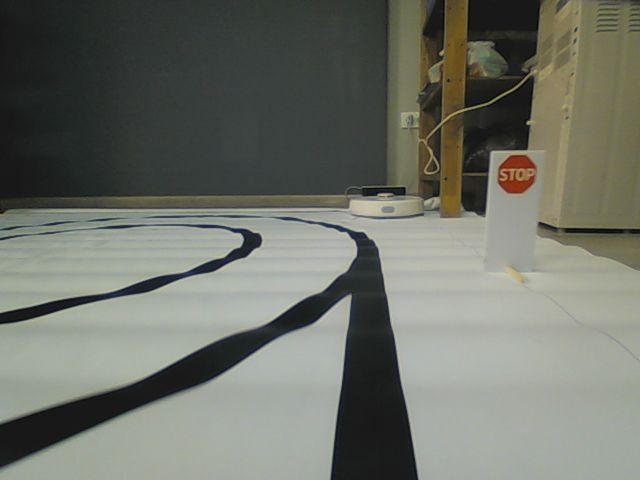Stop: (497, 155, 538, 194)
